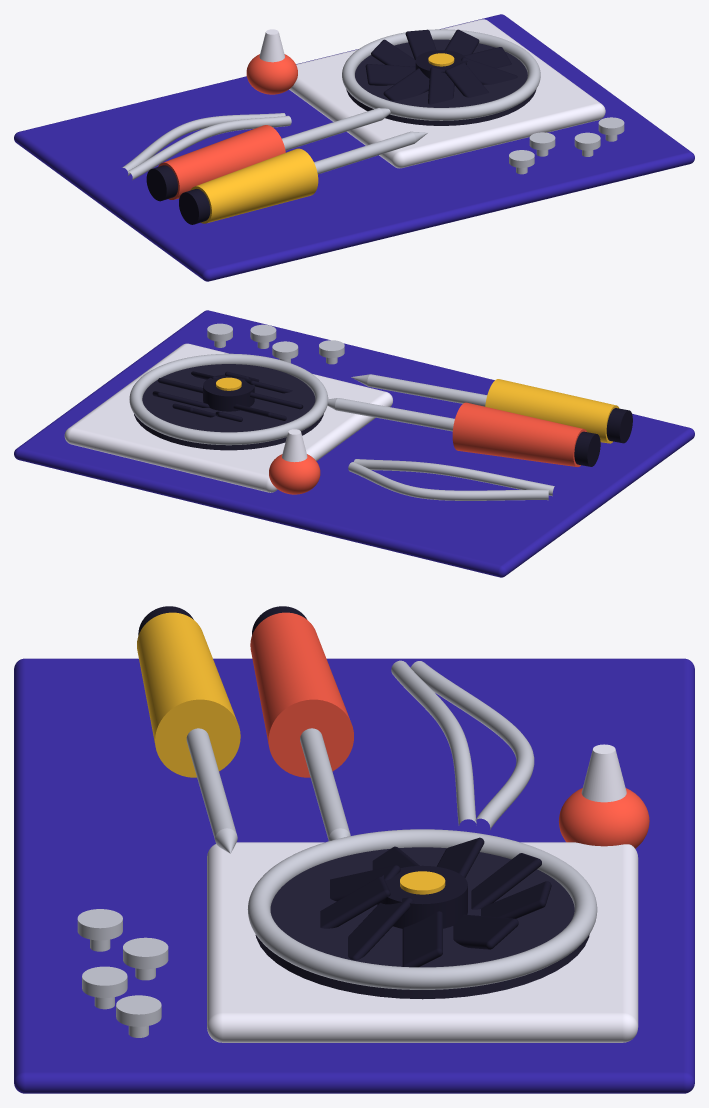
File: mantenimiento.glb
3 renders of one model, top to bottom at view 1: azimuth 30°, elevation 25°; view 2: azimuth 150°, elevation 25°; view 3: azimuth 270°, elevation 25°, orthographic. The views are drawn at different scales.
Size of the model in its own units: 4.4 by 0.62 by 3.
